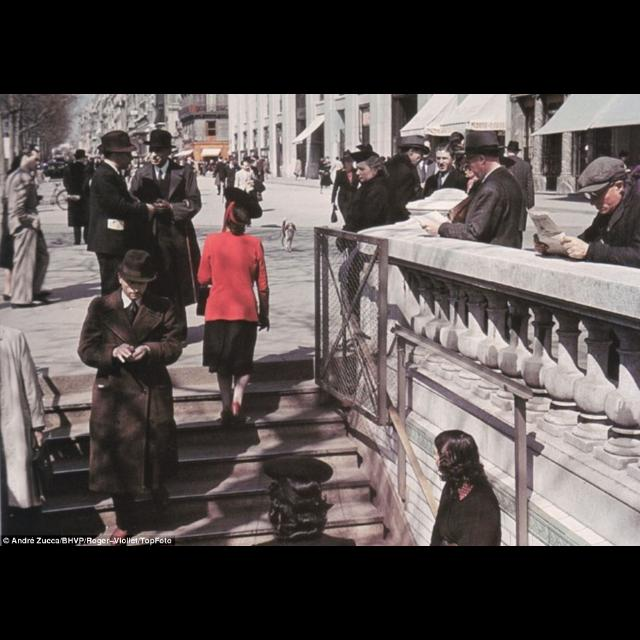head: (584, 166, 626, 217), (434, 431, 478, 475), (465, 140, 501, 180), (118, 264, 150, 302), (104, 140, 134, 170), (354, 156, 386, 184), (224, 200, 250, 232), (402, 137, 426, 167), (434, 144, 458, 174), (150, 138, 172, 166), (20, 148, 42, 172), (22, 146, 42, 172), (1, 290, 16, 322), (450, 132, 466, 150), (420, 140, 434, 160), (506, 140, 520, 156), (343, 154, 355, 170), (76, 152, 86, 164), (242, 162, 252, 172), (218, 156, 224, 164), (229, 156, 235, 164), (336, 156, 340, 162), (296, 158, 300, 160)
person: (417, 127, 529, 407), (193, 186, 274, 438), (79, 127, 161, 370), (126, 125, 206, 351), (336, 148, 402, 348), (370, 133, 434, 334), (5, 142, 65, 312), (420, 140, 470, 298), (0, 146, 44, 306), (489, 140, 538, 268), (435, 131, 477, 255), (406, 139, 444, 259), (330, 148, 370, 256), (64, 146, 95, 250), (233, 156, 269, 230), (222, 153, 244, 199), (212, 154, 230, 198), (329, 156, 348, 192), (293, 156, 305, 182)
